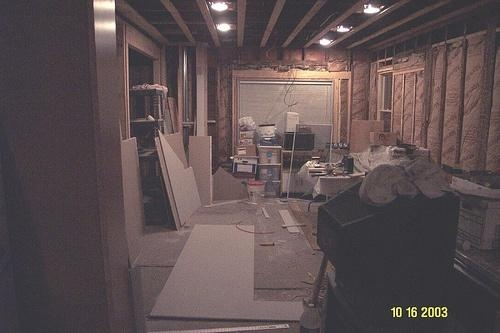tvmonitor: (318, 162, 467, 286)
